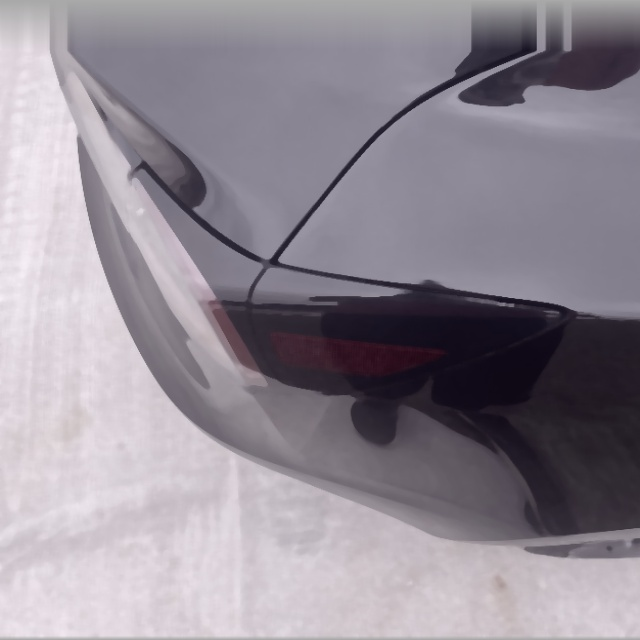reflector: (266, 331, 450, 377)
